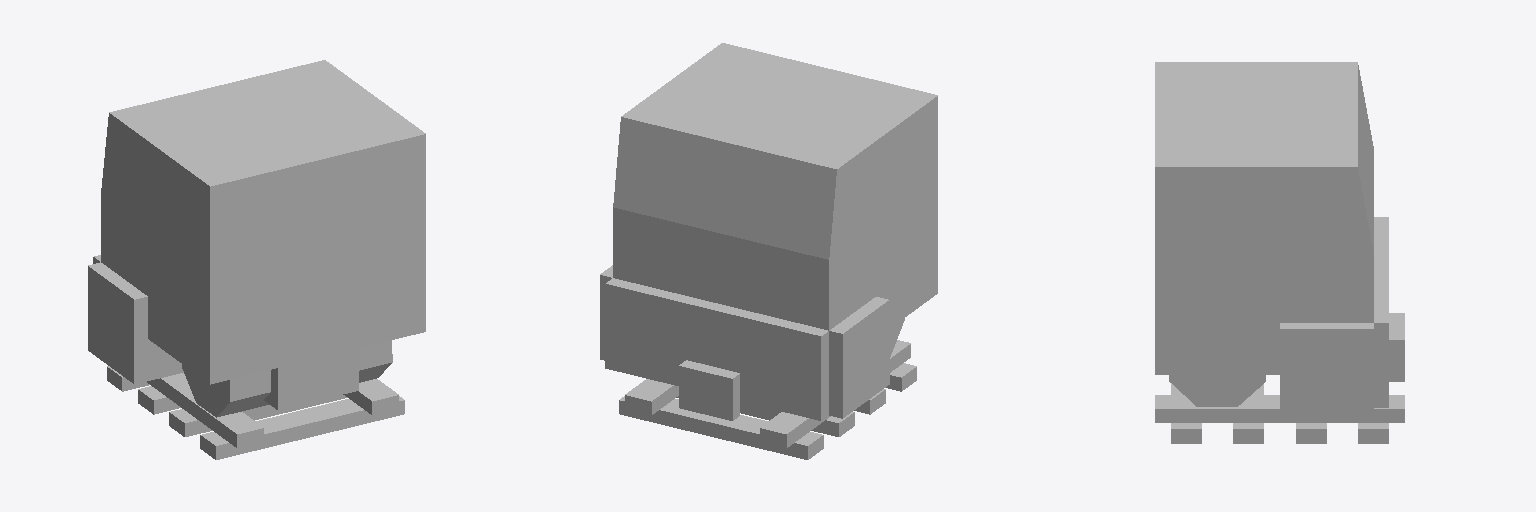
The model's file is sm_mapnodes_train1.obj.
3 renders of one model, left to right at view 1: azimuth 30°, elevation 25°; view 2: azimuth 150°, elevation 25°; view 3: azimuth 270°, elevation 25°, orthographic.
Visible parts, largest first — view 1: Train1; view 2: Train1; view 3: Train1.
Part boxes in pixels (bbox=[...]): Train1: bbox=[88, 60, 425, 459]; Train1: bbox=[600, 43, 937, 459]; Train1: bbox=[1155, 62, 1404, 443].
Size of the model in its own units: 1.12 by 1.25 by 1.